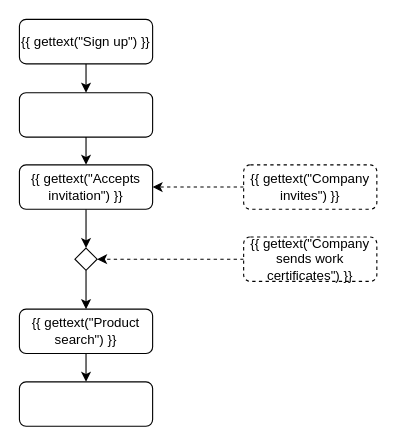
Some shapes in this 396 by 446 pixel diagram are drawn without their labels. Here are the shapes that lost their labels. From the top down, the box of each, then its label:
(18, 92, 153, 137): {{ gettext("Login") }}
(18, 381, 153, 426): {{ gettext("Payment of product") }}
